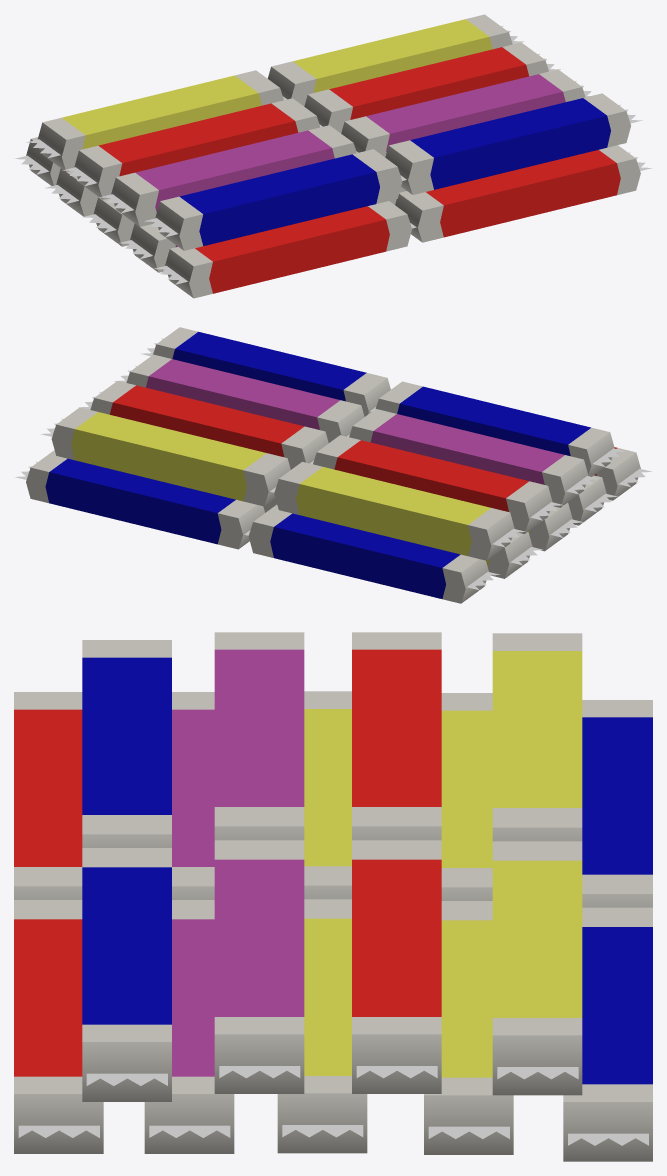
Rendered from SM_FullShelf_Biscuits.fbx.
3 renders of one model, top to bottom at view 1: azimuth 30°, elevation 25°; view 2: azimuth 150°, elevation 25°; view 3: azimuth 270°, elevation 25°, orthographic. The views are drawn at different scales.
Parts seen in each view (by area): view 1: pPlane29; view 2: pPlane29; view 3: pPlane29.
Boxes of the visible parts, x1,y1,x2,y2 form: pPlane29: [14, 14, 652, 298]; pPlane29: [15, 327, 652, 603]; pPlane29: [14, 632, 652, 1161].
Bounding box in the file's own units: 1.01 × 0.1264 × 0.6123.
